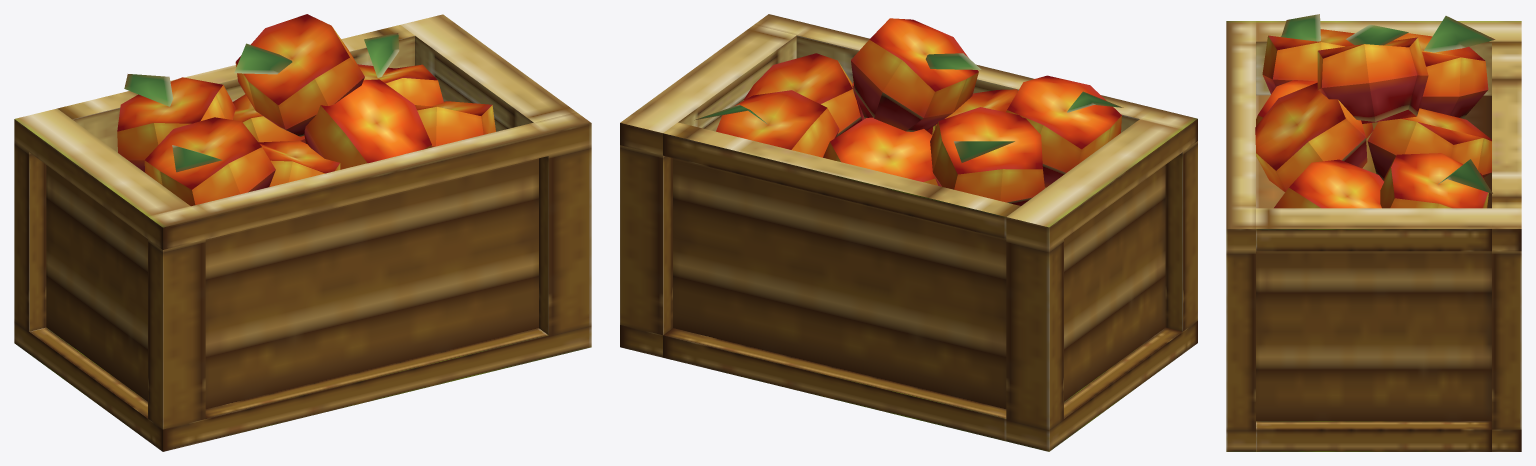
File: Poly_Crate_04.obj
The picture shows the model from 3 angles, left to right: view 1: azimuth 30°, elevation 25°; view 2: azimuth 150°, elevation 25°; view 3: azimuth 270°, elevation 25°; orthographic projection.
Visible parts, largest first — view 1: Cube, Cube.001, Cube.003, Cube.006, Cube.002, Plane, Cube.005, Cube.009, Cube.004, Cube.008; view 2: Cube, Cube.001, Cube.002, Cube.003, Cube.004, Cube.008, Cube.005, Plane, Cube.009; view 3: Cube, Cube.006, Cube.001, Cube.008, Cube.004, Cube.005, Cube.002, Plane, Cube.003, Cube.009.
Boxes of the visible parts, x1,y1,x2,y2 form: Cube: (14,14,591,451); Cube.001: (235,14,364,136); Cube.003: (144,117,275,206); Cube.006: (304,79,431,169); Cube.002: (117,77,235,172); Plane: (124,33,399,172); Cube.005: (415,101,495,147); Cube.009: (258,140,340,186); Cube.004: (357,64,443,106); Cube.008: (233,94,305,143); Cube: (620,14,1197,451); Cube.001: (851,18,978,131); Cube.002: (930,107,1044,205); Cube.003: (1006,75,1121,187); Cube.004: (716,90,839,157); Cube.008: (823,117,938,185); Cube.005: (744,53,861,136); Plane: (694,53,1123,162); Cube.009: (932,89,1017,135); Cube: (1226,21,1521,451); Cube.006: (1255,82,1367,191); Cube.001: (1317,37,1428,123); Cube.008: (1367,108,1491,180); Cube.004: (1380,153,1488,208); Cube.005: (1274,159,1383,208); Cube.002: (1393,33,1488,118); Plane: (1281,14,1495,193); Cube.003: (1262,29,1354,94); Cube.009: (1256,80,1373,138).
Size of the model in its own units: 1 by 0.7073 by 0.6.
1 material, 1 textured.
